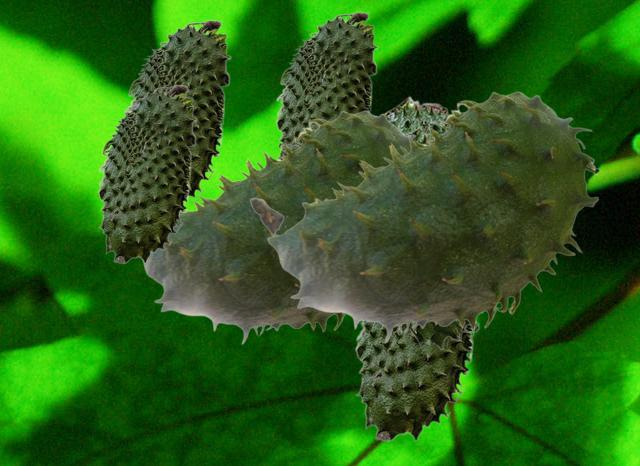guyabano: (249, 91, 599, 343), (142, 110, 416, 344), (374, 95, 485, 349), (124, 19, 230, 199), (97, 84, 196, 263), (275, 11, 377, 157), (354, 321, 474, 441)
